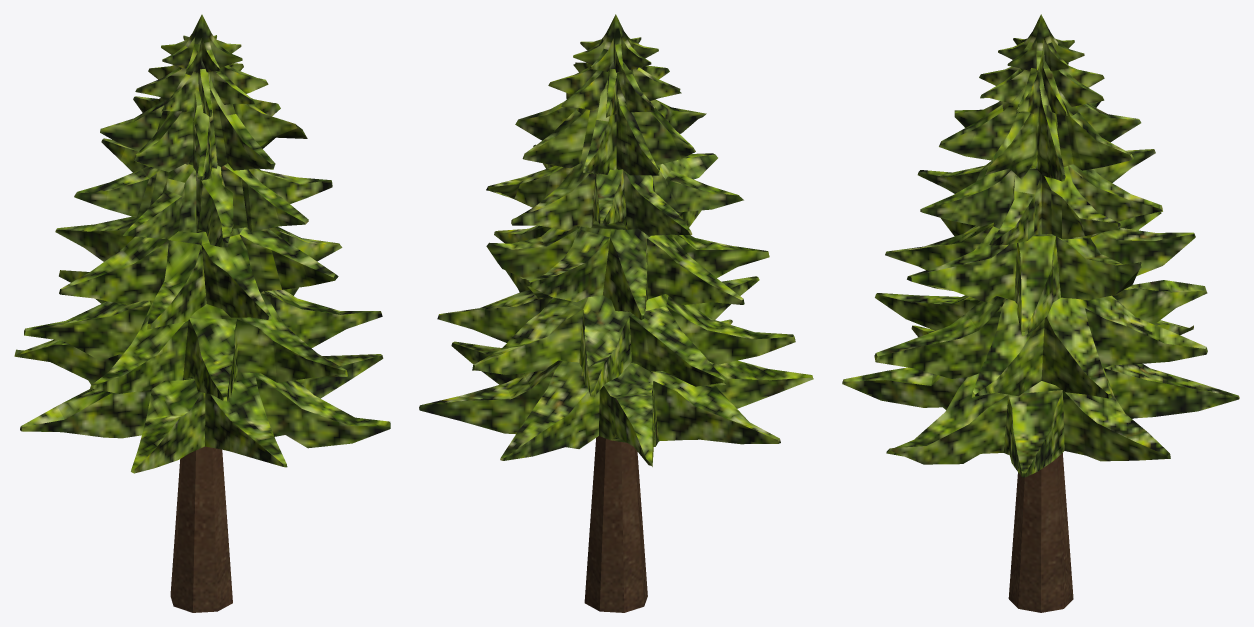
Rendered from Tree9.fbx.
3 views of the same model, side by side, from view 1: azimuth 30°, elevation 25°; view 2: azimuth 150°, elevation 25°; view 3: azimuth 270°, elevation 25° (orthographic).
Visible parts, largest first — view 1: trunk_09; view 2: trunk_09; view 3: trunk_09.
Part boxes in pixels (x1,y1,x2,y2): trunk_09: (14, 14, 390, 612); trunk_09: (419, 14, 813, 612); trunk_09: (842, 14, 1239, 612).
Bounding box in the file's own units: 3.85 × 6.24 × 3.84.
